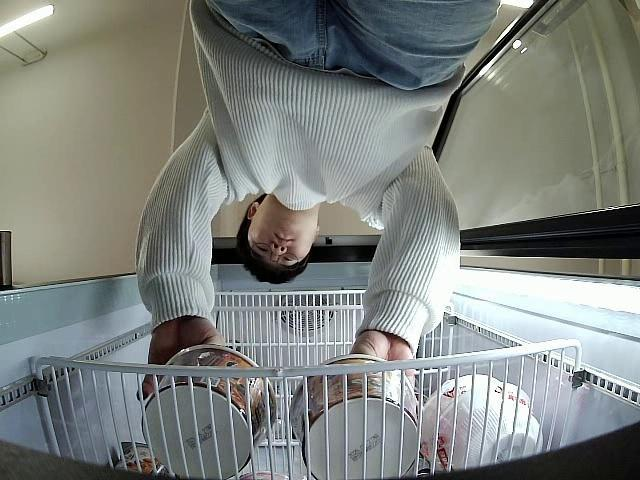05_nuguri_L: (142, 345, 279, 480), (290, 354, 419, 480)
